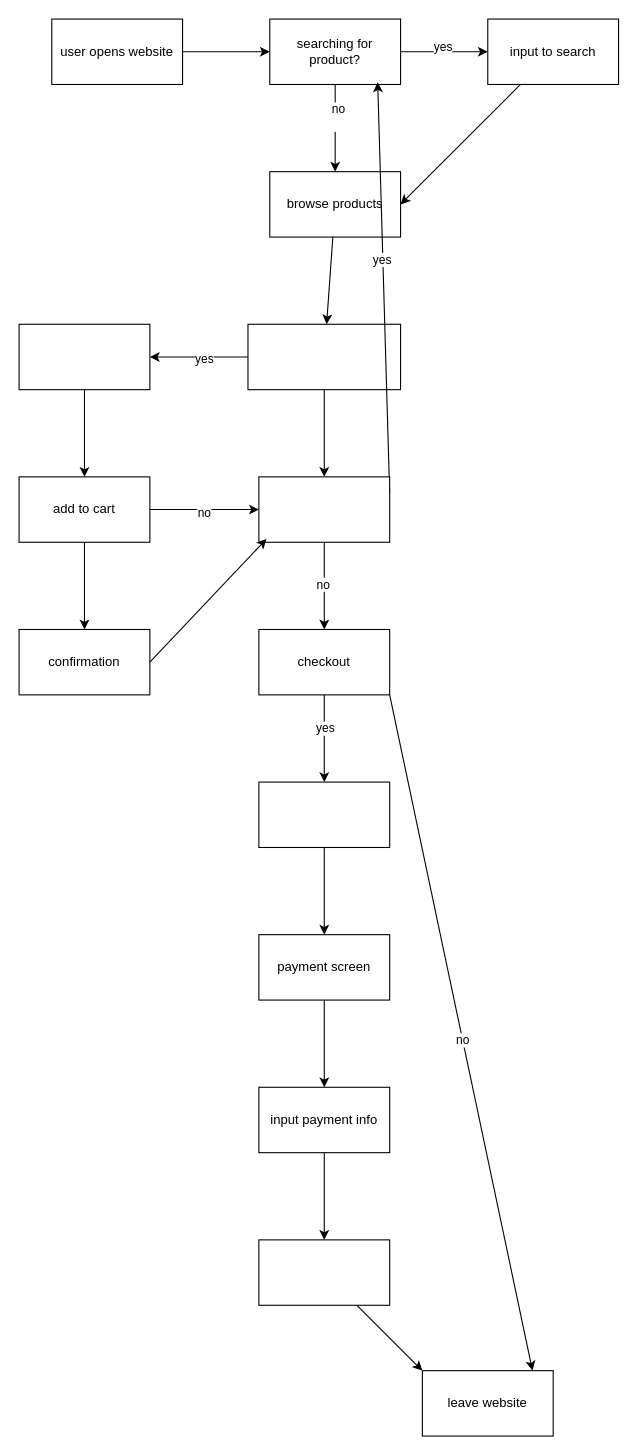
Image size: 638x1455. Some labels were removed from this diagram. The shapes that lost their labels are listed below. From the top down, each one's centre as x and y in pixels, then its label:
At [84,356]: "open product page".
At [324,356]: "view product".
At [324,509]: "continue shopping?".
At [324,814]: "cart screen".
At [324,1272]: "order confirm and recieve email".
